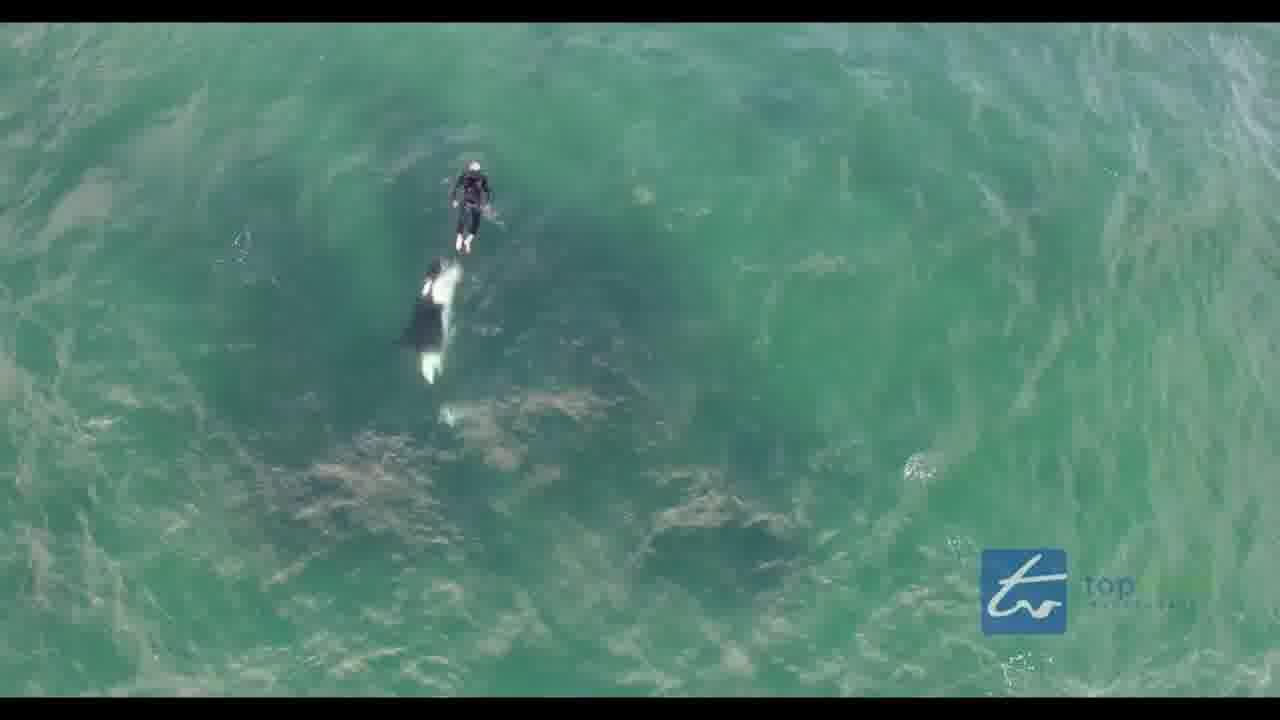swimmer: (448, 152, 493, 248)
